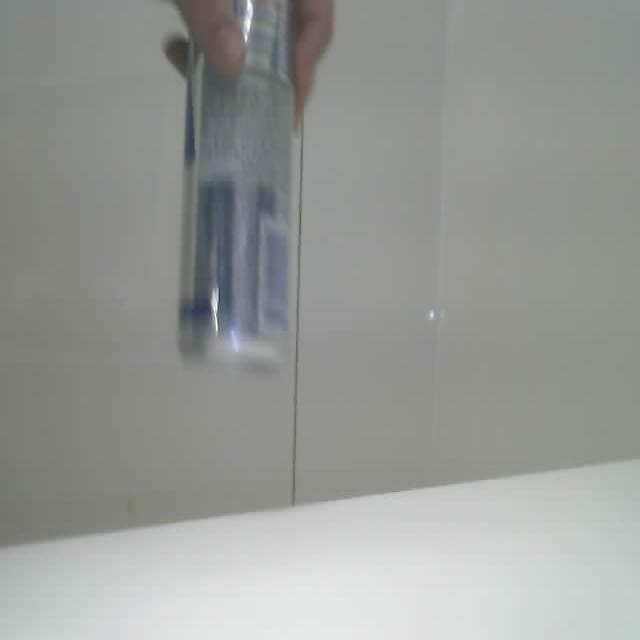redbull can: (179, 0, 293, 363)
